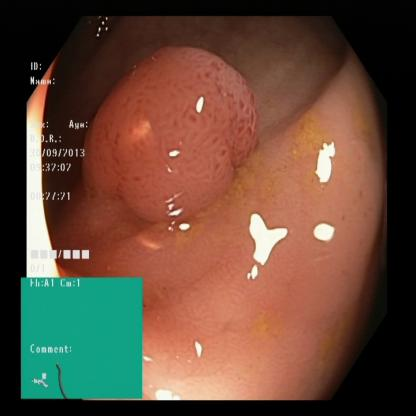Labels: (21, 50, 96, 270), (20, 281, 142, 398)
Polyps: (90, 64, 252, 204)
